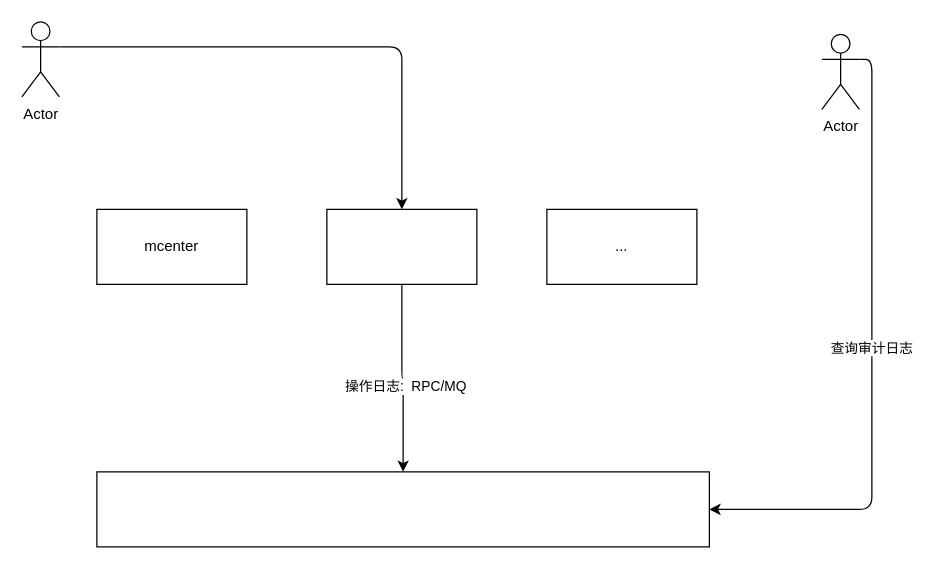
Image size: 934x569. Some labels were removed from this diagram. Each missing label, with the box of its shape:
cmdb: (326, 208, 477, 284)
maudit: (96, 471, 709, 547)
